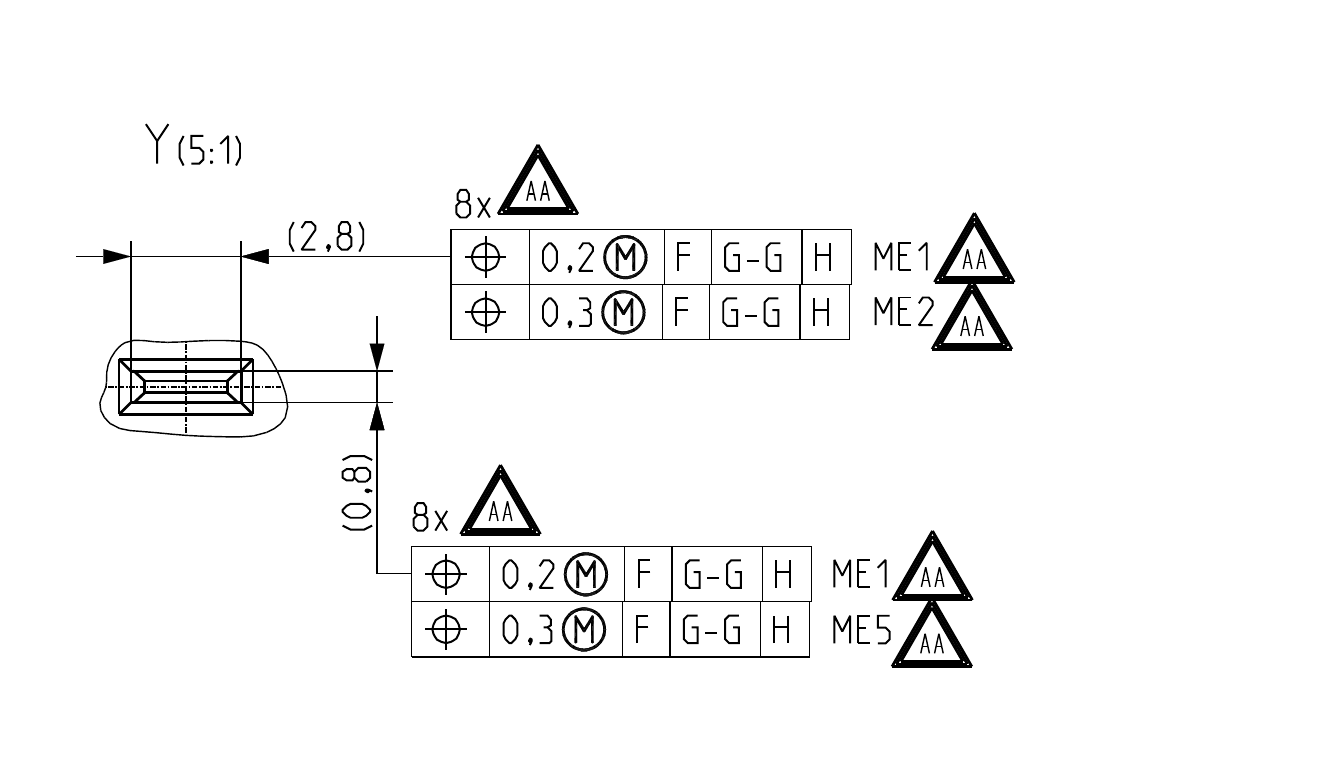falcon_r2: (411, 600, 813, 661), (448, 284, 851, 342), (412, 546, 815, 602), (449, 231, 854, 284)
